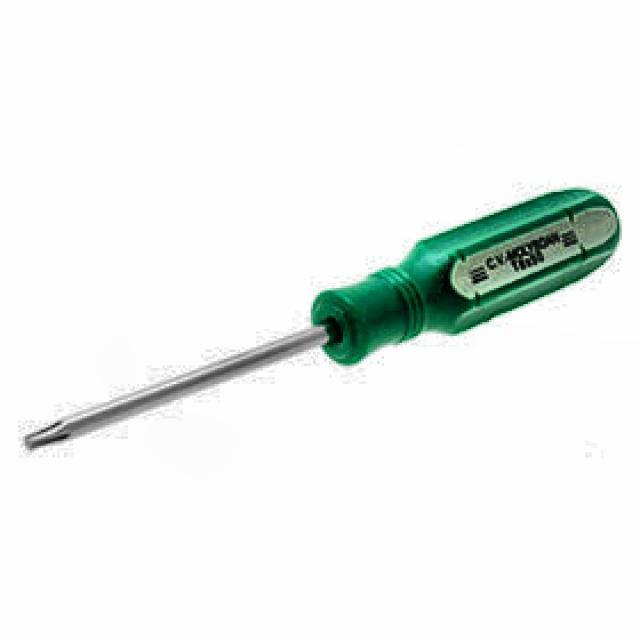screwdriver: (24, 186, 622, 450)
